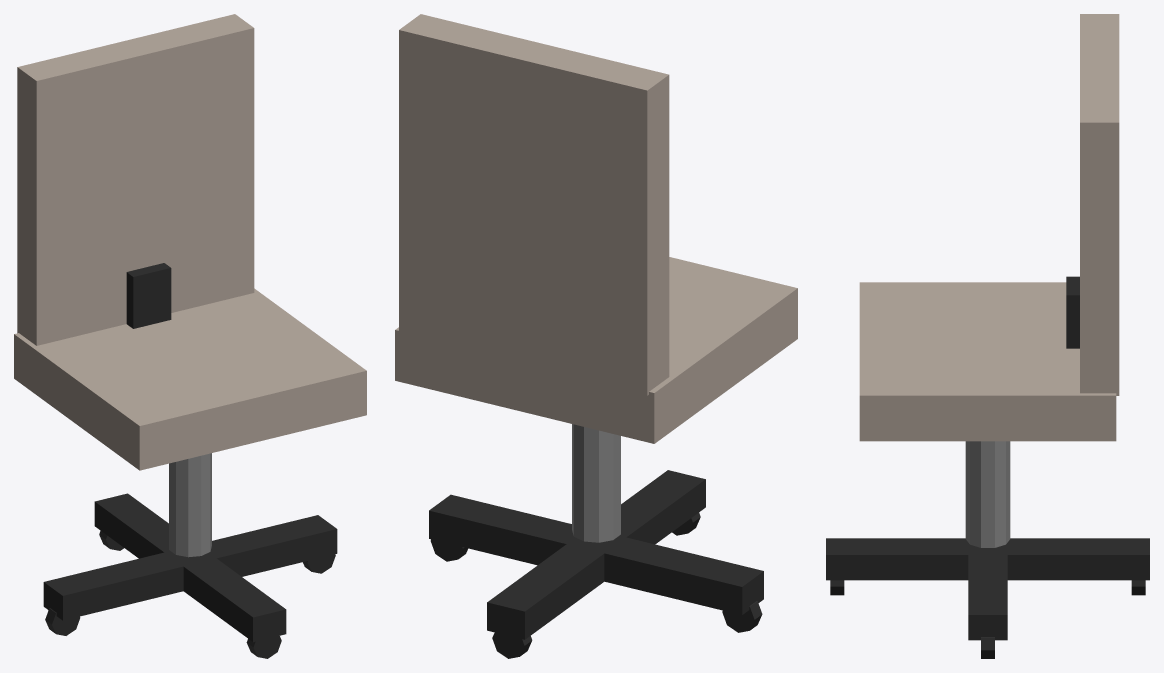
3 views of the same model, side by side, from view 1: azimuth 30°, elevation 25°; view 2: azimuth 150°, elevation 25°; view 3: azimuth 270°, elevation 25° (orthographic). The views are drawn at different scales.
Visible parts, largest first — view 1: silla_of1_01; view 2: silla_of1_01; view 3: silla_of1_01.
Boxes of the visible parts, x1=… form: silla_of1_01: x1=14, y1=14, x2=366, y2=658; silla_of1_01: x1=395, y1=14, x2=797, y2=658; silla_of1_01: x1=826, y1=14, x2=1149, y2=658.
Size of the model in its own units: 0.6 by 0.58 by 1.04.
